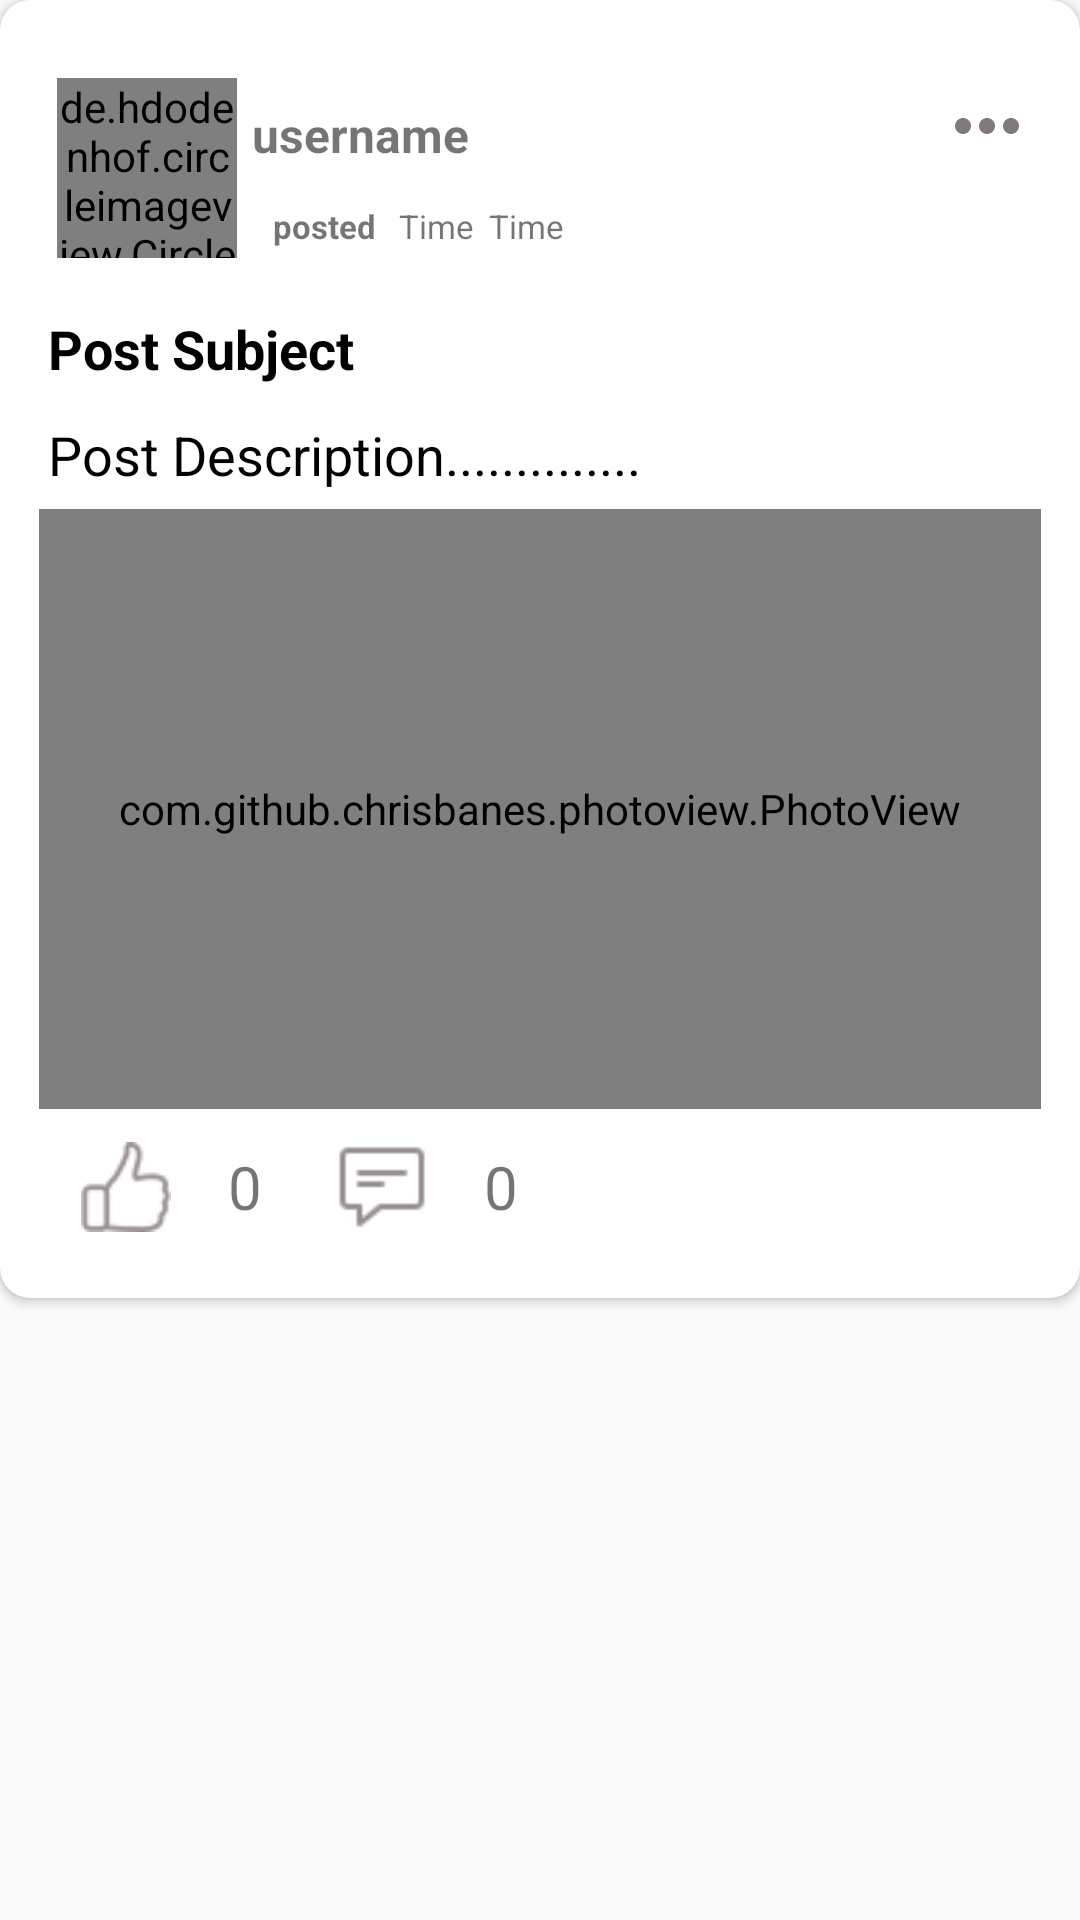

Named icons in this screenshot (1080 × 1920) and their centers, (x=x, y=y):
Comment: (x=382, y=1187)
Like: (x=126, y=1187)
